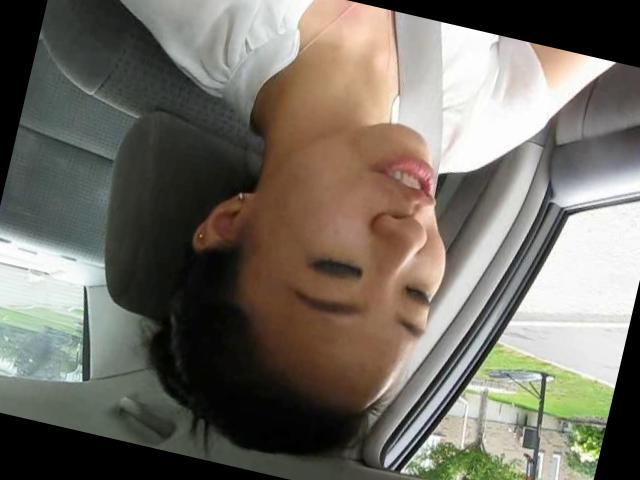eye_closed: (296, 239, 371, 292), (396, 275, 438, 312)
face: (238, 95, 488, 364)
